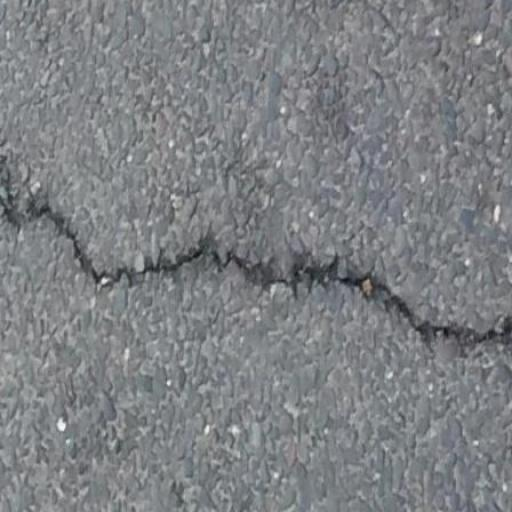spalling: (1, 180, 510, 353)
